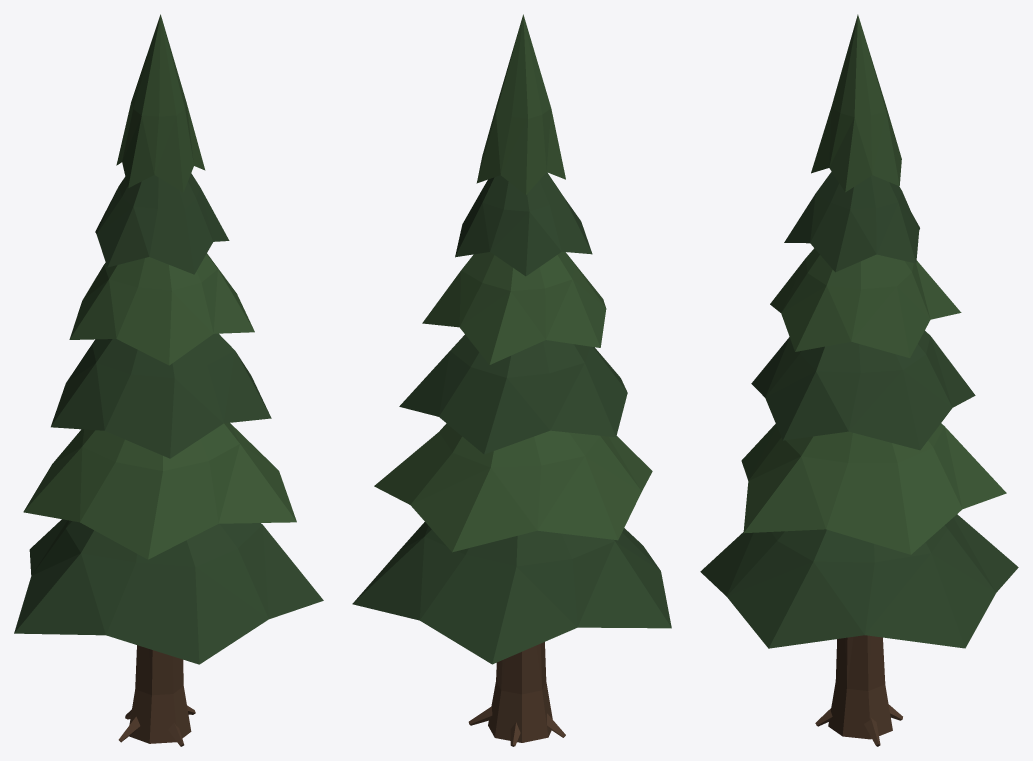
The model's file is Tree_PineTall.fbx.
3 views of the same model, side by side, from view 1: azimuth 30°, elevation 25°; view 2: azimuth 150°, elevation 25°; view 3: azimuth 270°, elevation 25° (orthographic).
Visible parts, largest first — view 1: Needles, Needles2, Trunk; view 2: Needles, Needles2, Trunk; view 3: Needles, Needles2, Trunk.
Part boxes in pixels (x1,y1,x2,y2): Needles: [14, 173, 323, 664]; Needles2: [23, 14, 296, 559]; Trunk: [118, 645, 195, 746]; Needles: [352, 172, 671, 664]; Needles2: [374, 14, 652, 552]; Trunk: [468, 642, 565, 746]; Needles: [700, 171, 1018, 648]; Needles2: [741, 14, 1006, 554]; Trunk: [815, 635, 902, 746].
Bounding box in the file's own units: 8.77 × 22.18 × 8.99.
